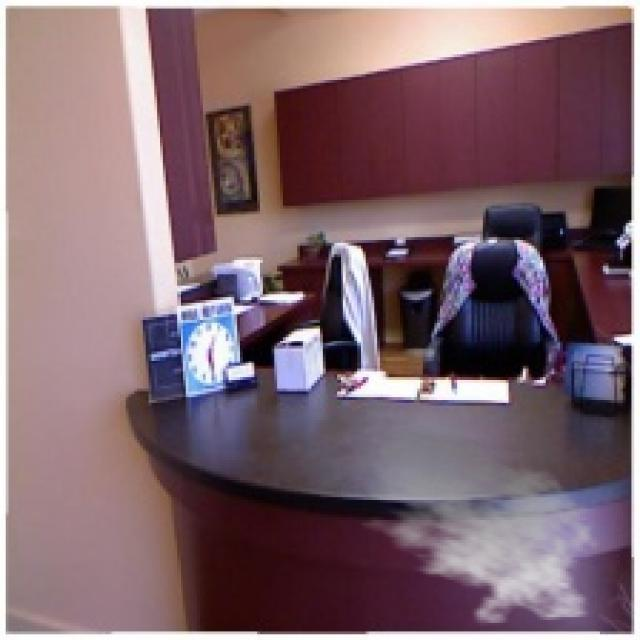Smoke: (348, 426, 603, 626)
